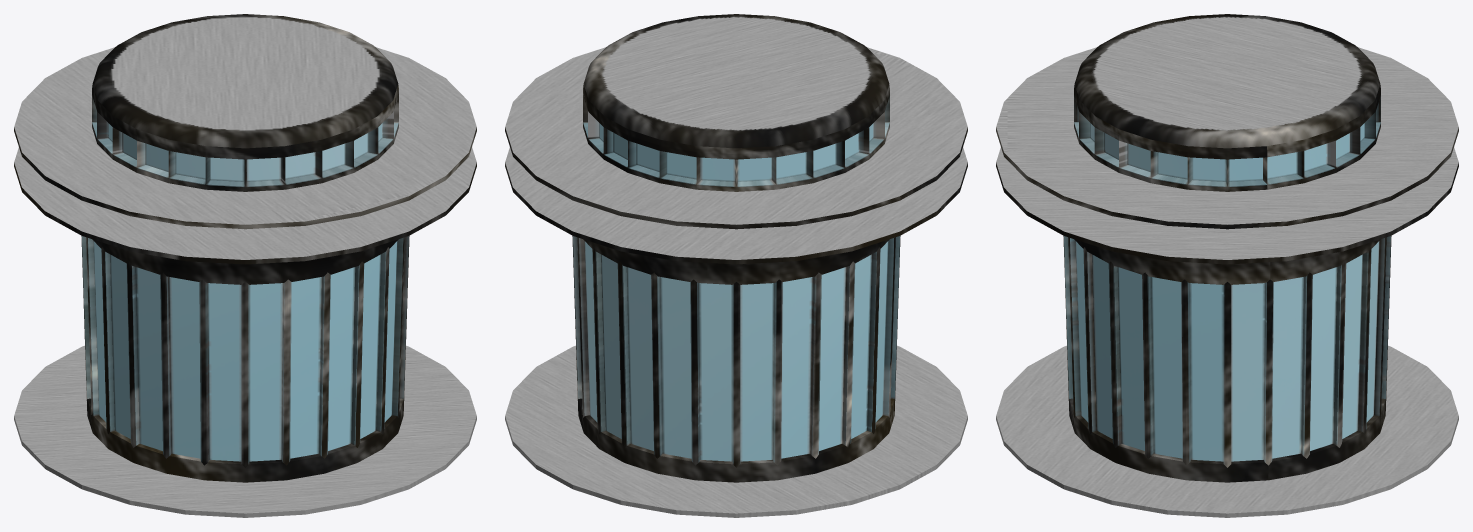
The model's file is h_trier_ha04.FBX.fbx.
3 views of the same model, side by side, from view 1: azimuth 30°, elevation 25°; view 2: azimuth 150°, elevation 25°; view 3: azimuth 270°, elevation 25° (orthographic).
Visible parts, largest first — view 1: Object002; view 2: Object002; view 3: Object002.
Part boxes in pixels (bbox=[...]): Object002: bbox=[14, 14, 476, 517]; Object002: bbox=[505, 14, 967, 517]; Object002: bbox=[996, 14, 1458, 517].
Size of the model in its own units: 240 by 216 by 240.
1 material, 1 textured.
